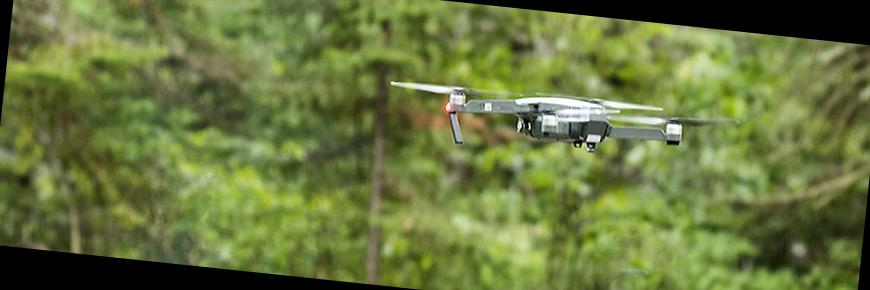drone: (378, 61, 724, 174)
